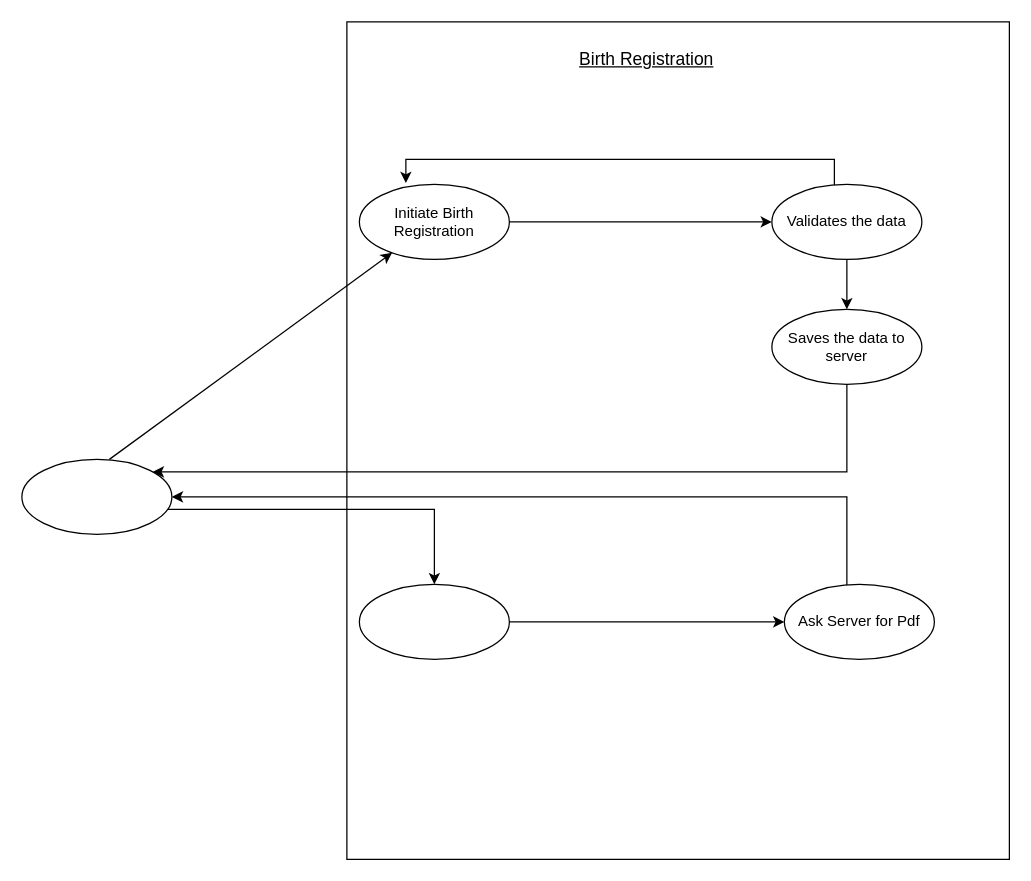
This 1031x881 diagram has some shape labels left out. The centre of each missing label's shape, as x and y in pixels:
Initiate the download: point (433, 621)
User: point (96, 496)
